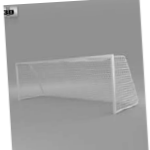goals: (14, 52, 140, 117)
